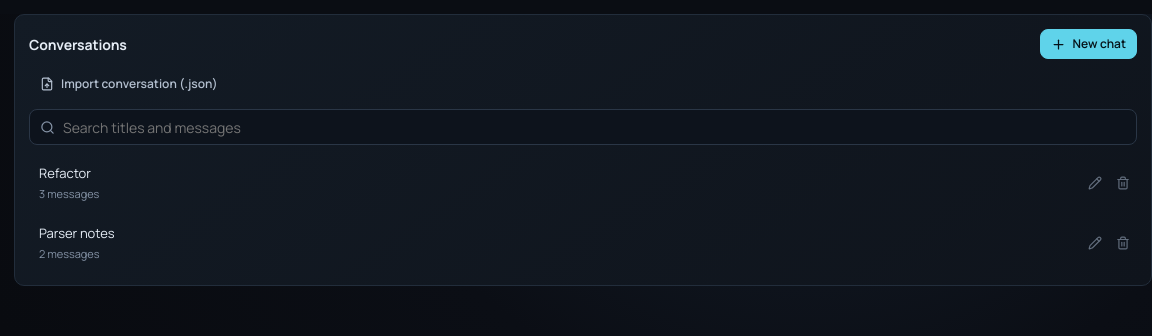
Test: ConversationList content search › waits for typing to pause, so one search runs for a burst of keystrokes
This screenshot has width=1152, height=336.
Type "abc" into the search field.
click(594, 127); type("abc")  # box [63,110,1126,144]
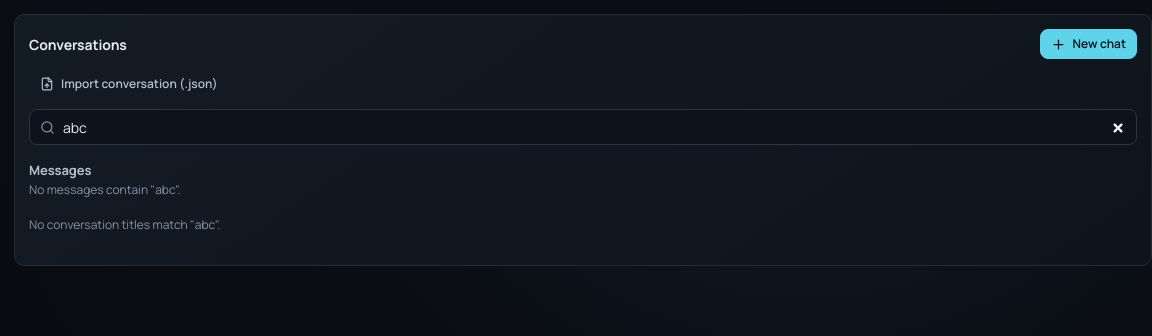
Now the text "No messages contain \"abc\"." is shown, box [29,180,180,198]
